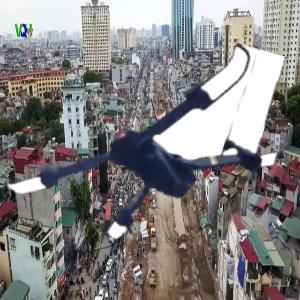drone: (13, 22, 275, 284)
